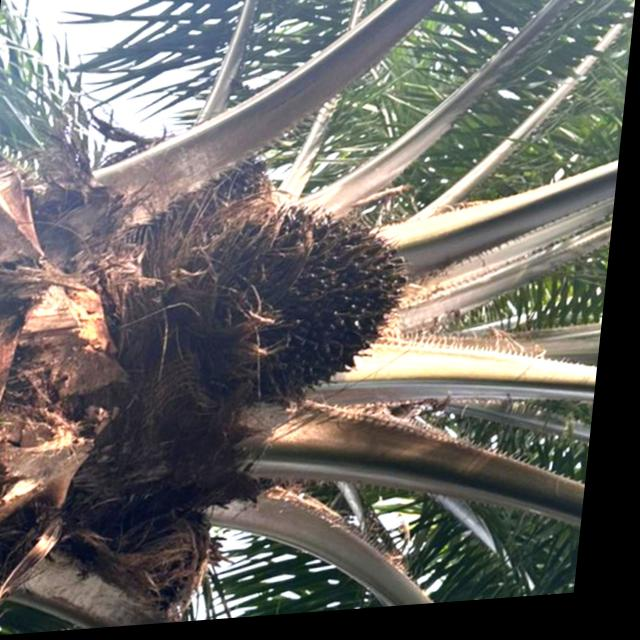almost: (189, 204, 429, 410)
